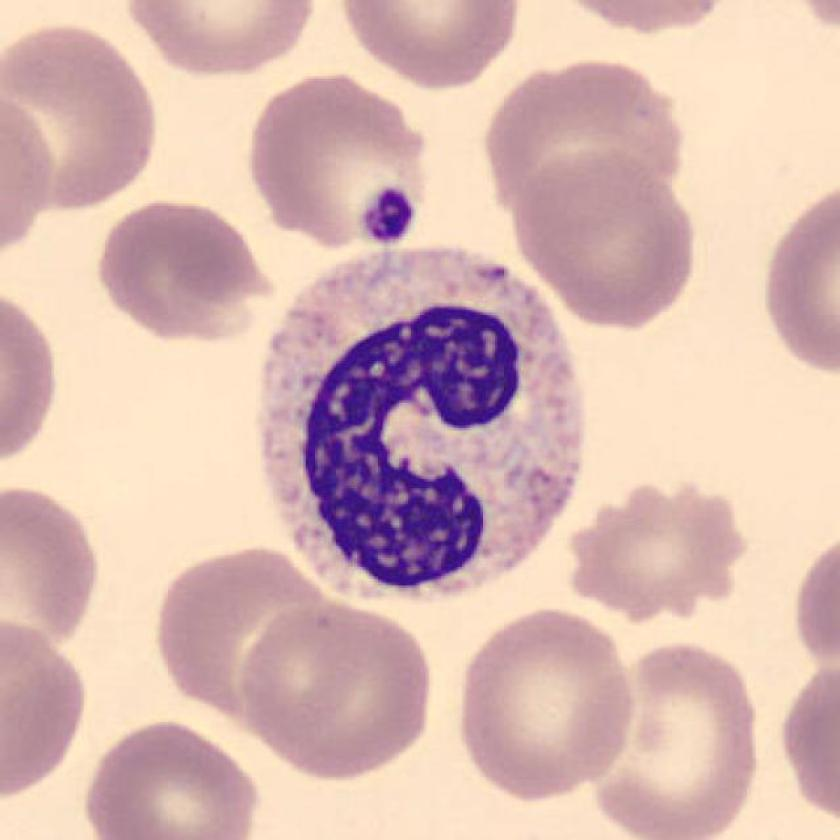neutrophil: (260, 249, 584, 598)
